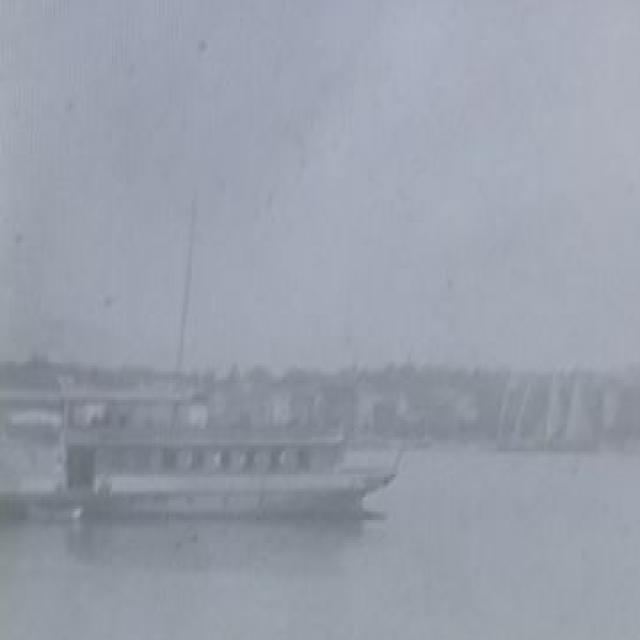houseboat: (40, 368, 407, 526)
